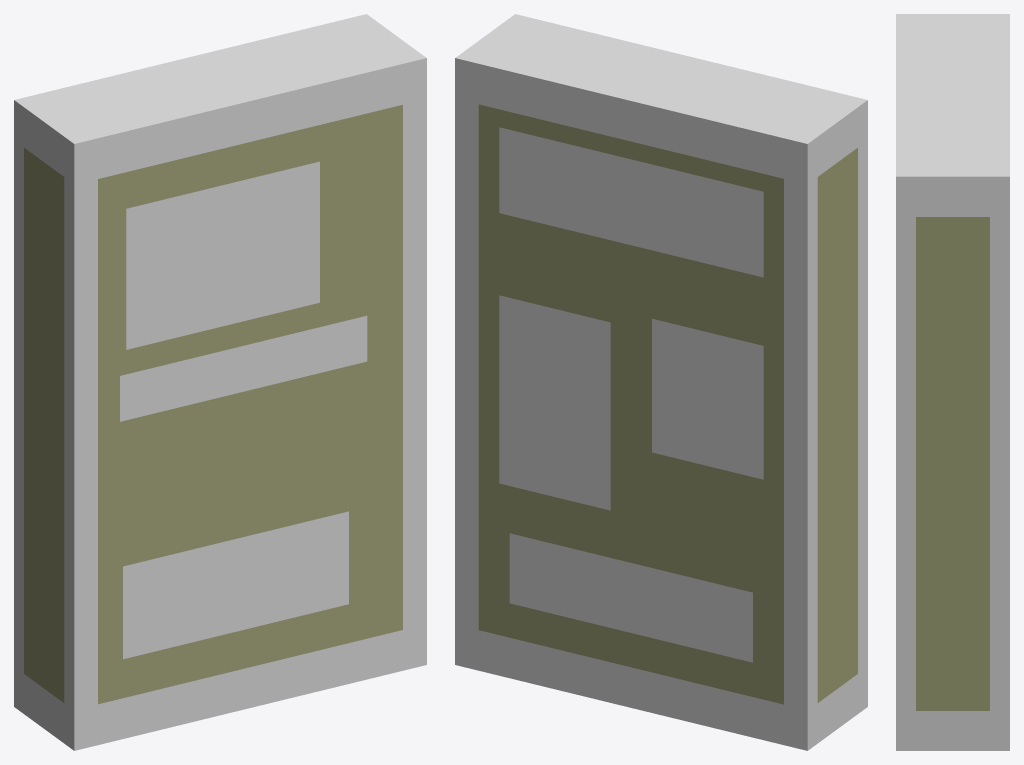
3 renders of one model, left to right at view 1: azimuth 30°, elevation 25°; view 2: azimuth 150°, elevation 25°; view 3: azimuth 270°, elevation 25°, orthographic. The views are drawn at different scales.
Visible parts, largest first — view 1: Cube.001; view 2: Cube.001; view 3: Cube.001.
Boxes of the visible parts, x1,y1,x2,y2 form: Cube.001: (14,14,426,750); Cube.001: (455,14,867,750); Cube.001: (896,14,1009,750).
Size of the model in its own units: 0.3587 by 0.5902 by 0.1061.
